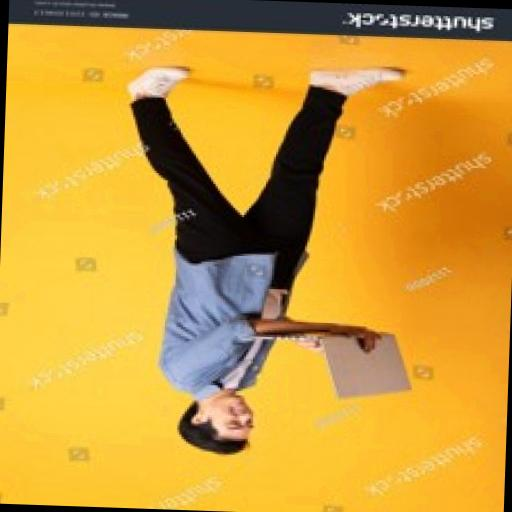human: (110, 58, 432, 471)
